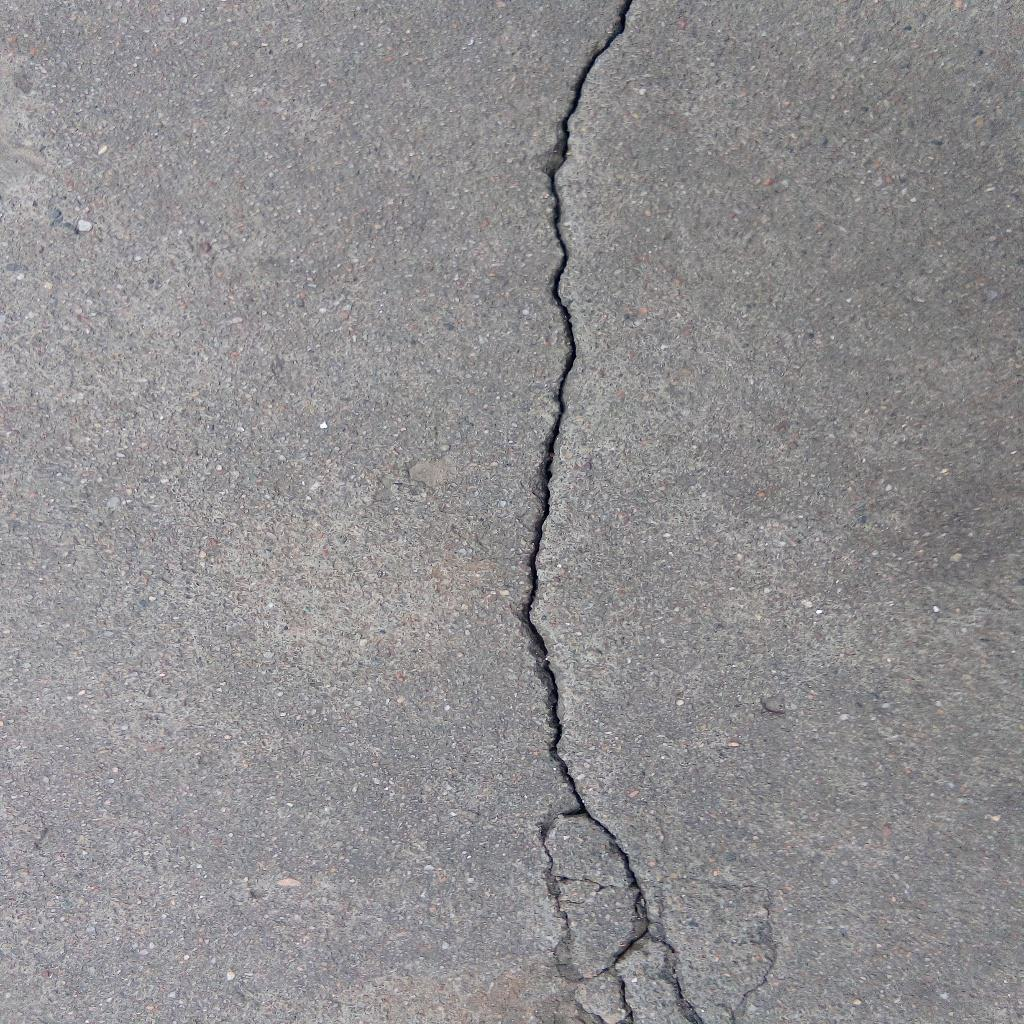Crack: (516, 1, 701, 1024)
